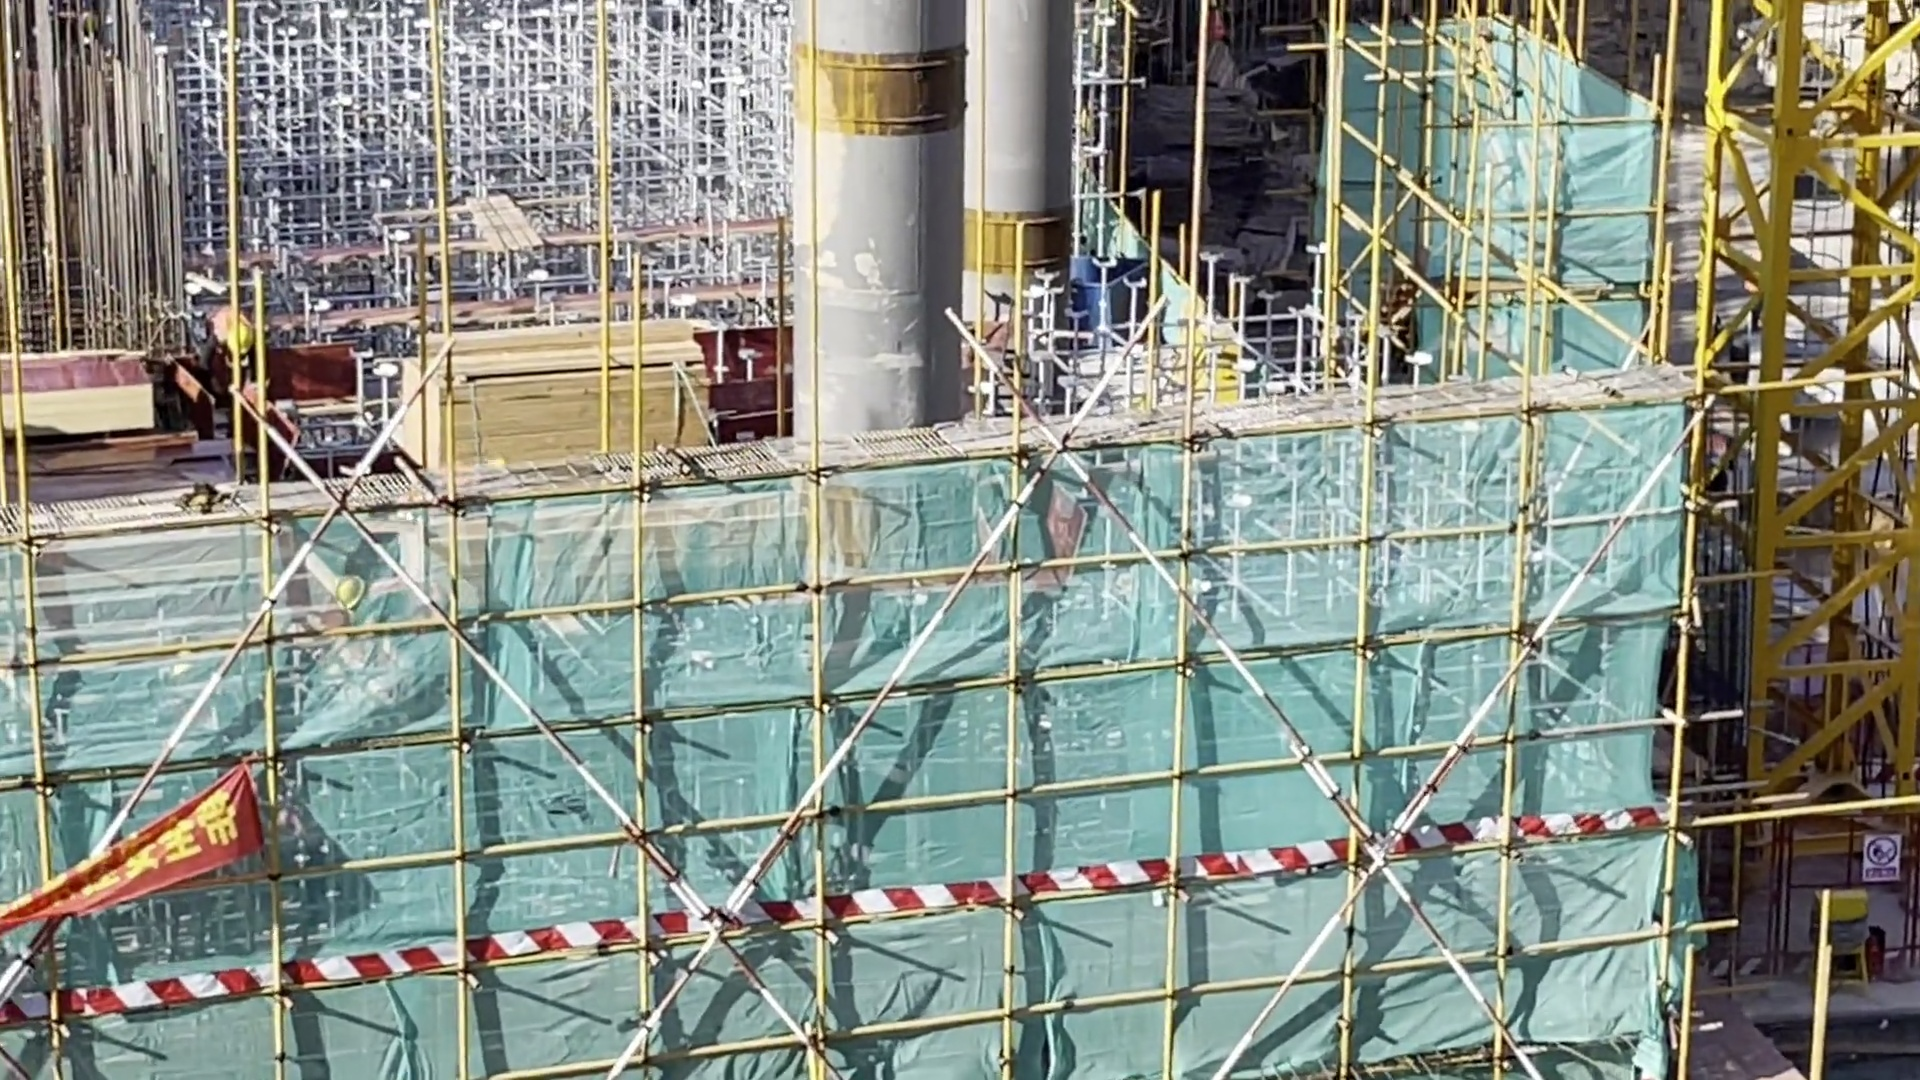slogan: (1, 723, 299, 953)
wood: (396, 324, 760, 483)
